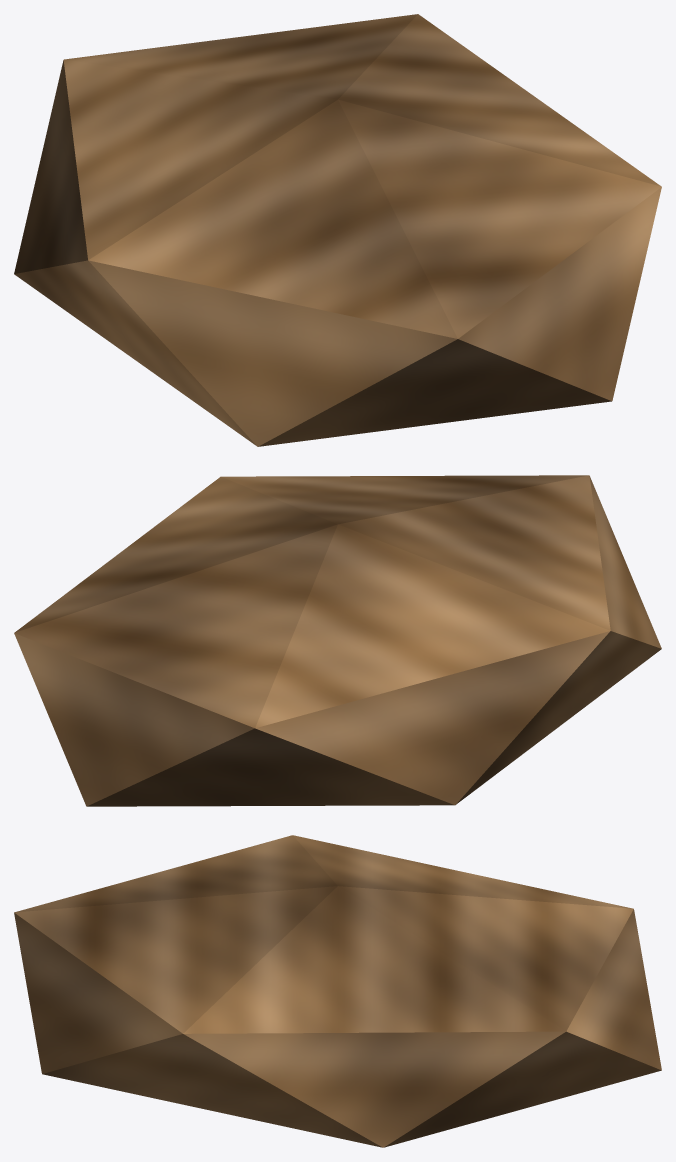
Rendered from 2007_sandstone_talus_02.dae.
3 views of the same model, one above another, from view 1: azimuth 30°, elevation 25°; view 2: azimuth 150°, elevation 25°; view 3: azimuth 270°, elevation 25° (orthographic). The views are drawn at different scales.
Visible parts, largest first — view 1: Node; view 2: Node; view 3: Node.
Boxes of the visible parts, <box> form: Node: <box>14,14,661,446</box>; Node: <box>14,475,661,806</box>; Node: <box>14,835,661,1147</box>.
Size of the model in its own units: 0.8925 by 1.12 by 0.4015.
1 material, 1 textured.
